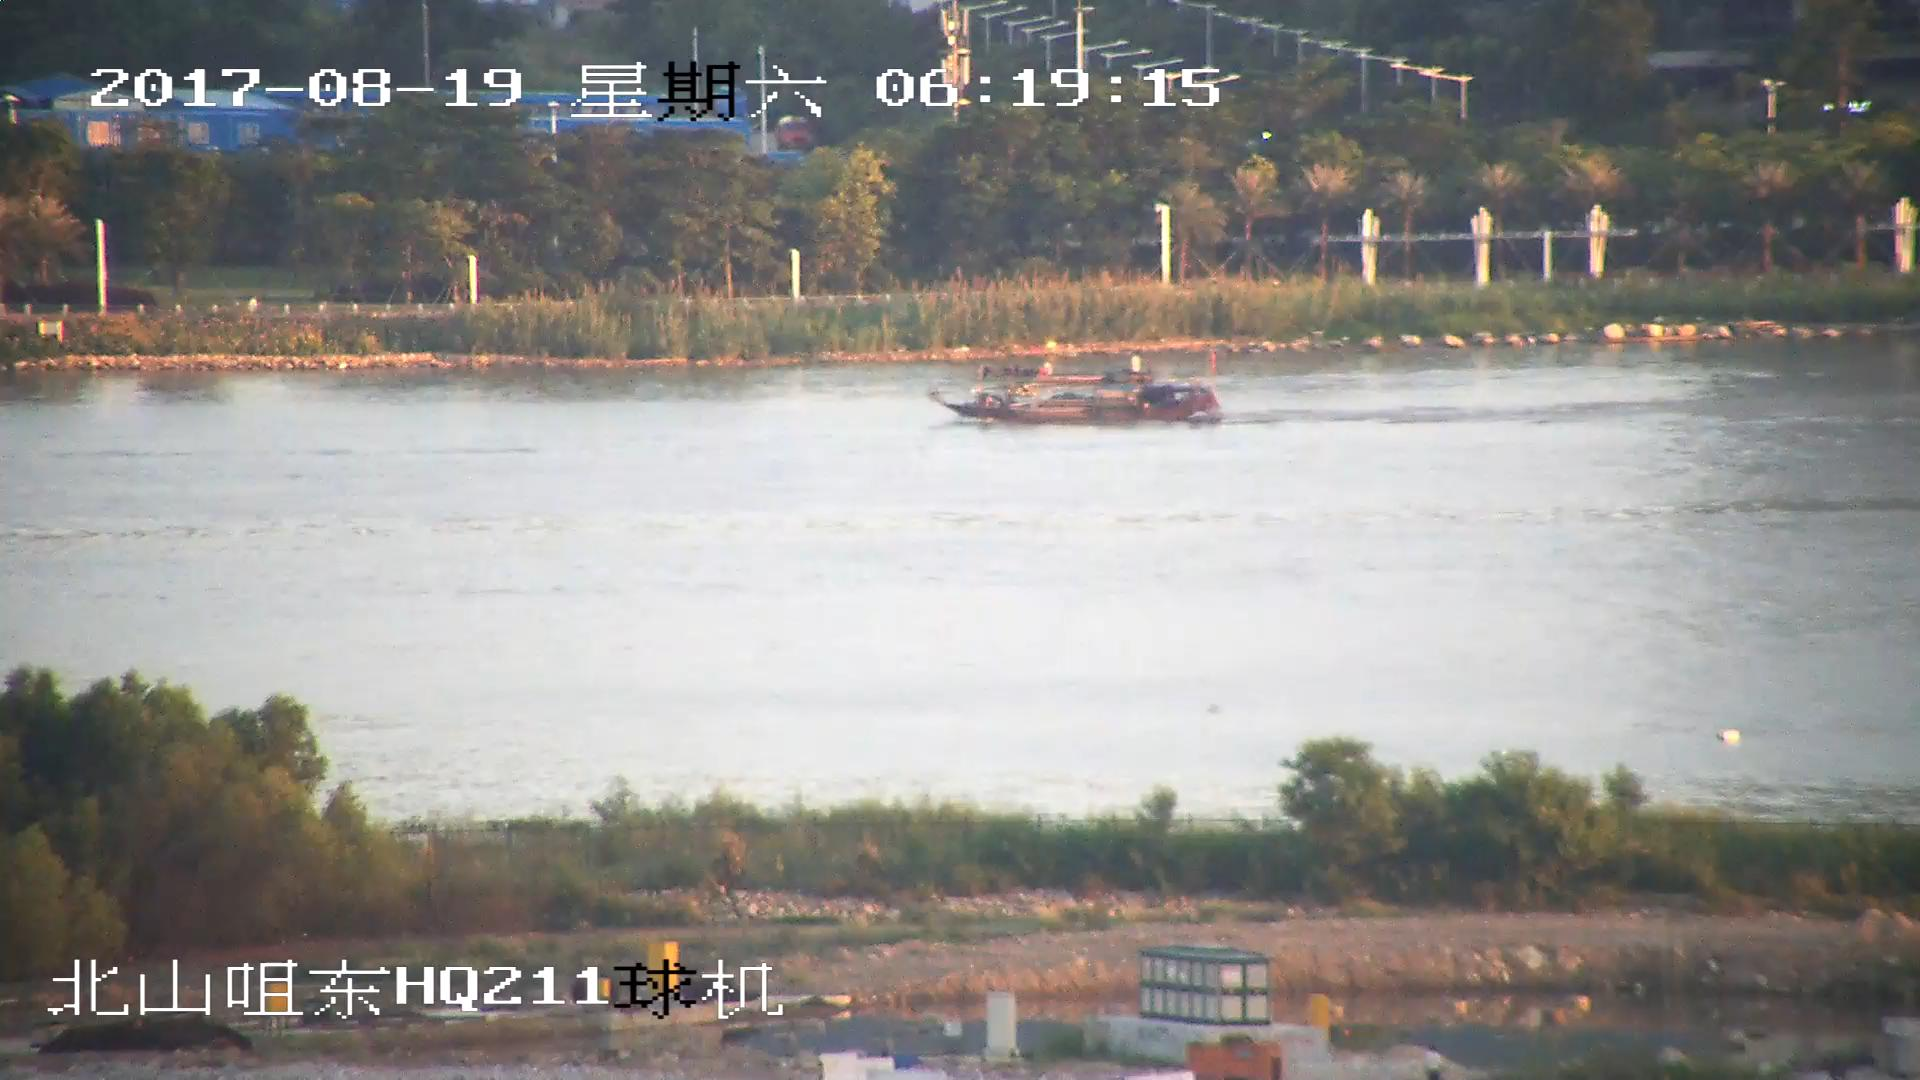fishing boat: (933, 355, 1215, 428)
